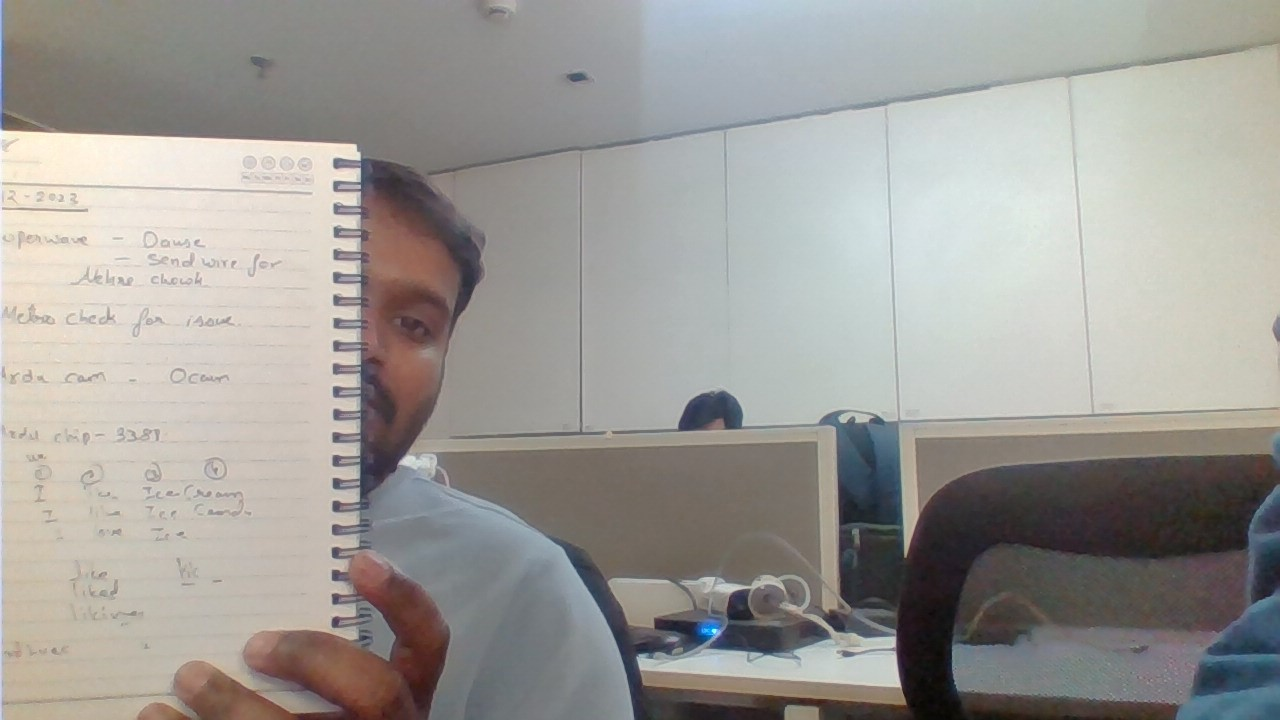partial: (1, 118, 372, 718)
